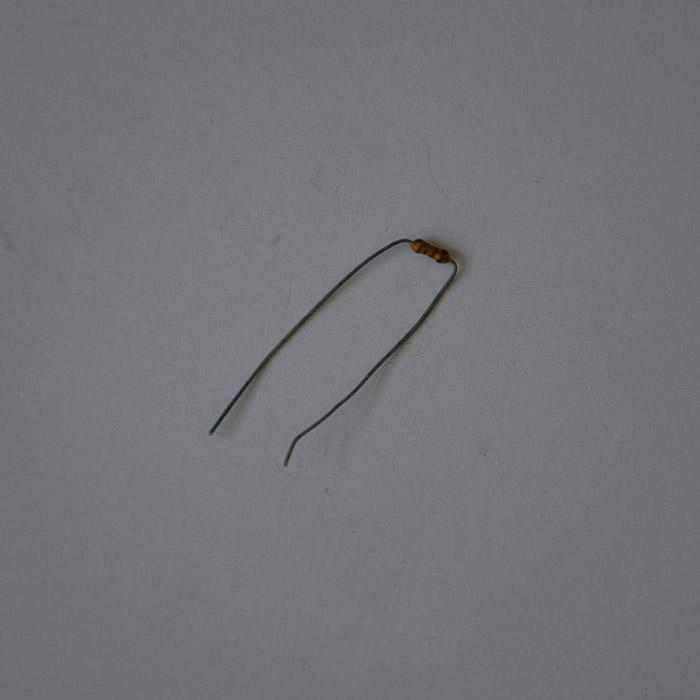resistor: (406, 235, 453, 269)
